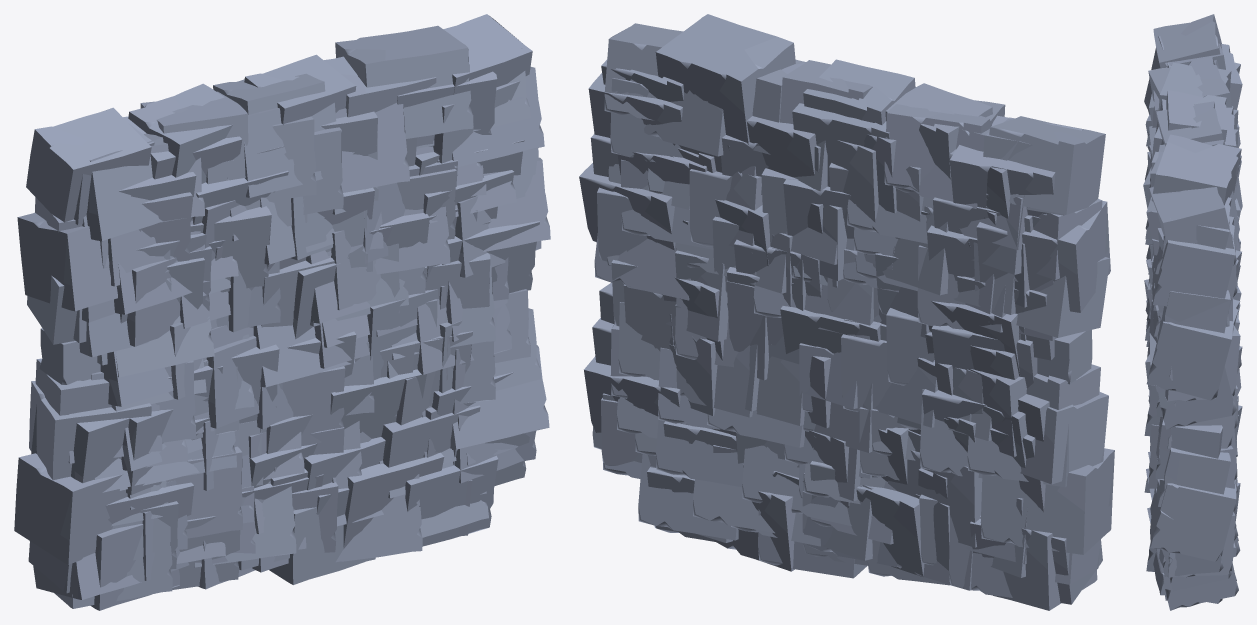
File: Stone_Bricks_Wall_Unity_Decimated.fbx
3 renders of one model, left to right at view 1: azimuth 30°, elevation 25°; view 2: azimuth 150°, elevation 25°; view 3: azimuth 270°, elevation 25°, orthographic. The views are drawn at different scales.
Parts seen in each view (by area): view 1: Plane.001; view 2: Plane.001; view 3: Plane.001.
Part boxes in pixels (<box>): Plane.001: <box>14,14,550,610</box>; Plane.001: <box>579,14,1114,610</box>; Plane.001: <box>1143,14,1242,610</box>.
Size of the model in its own units: 1254 by 1190 by 252.
